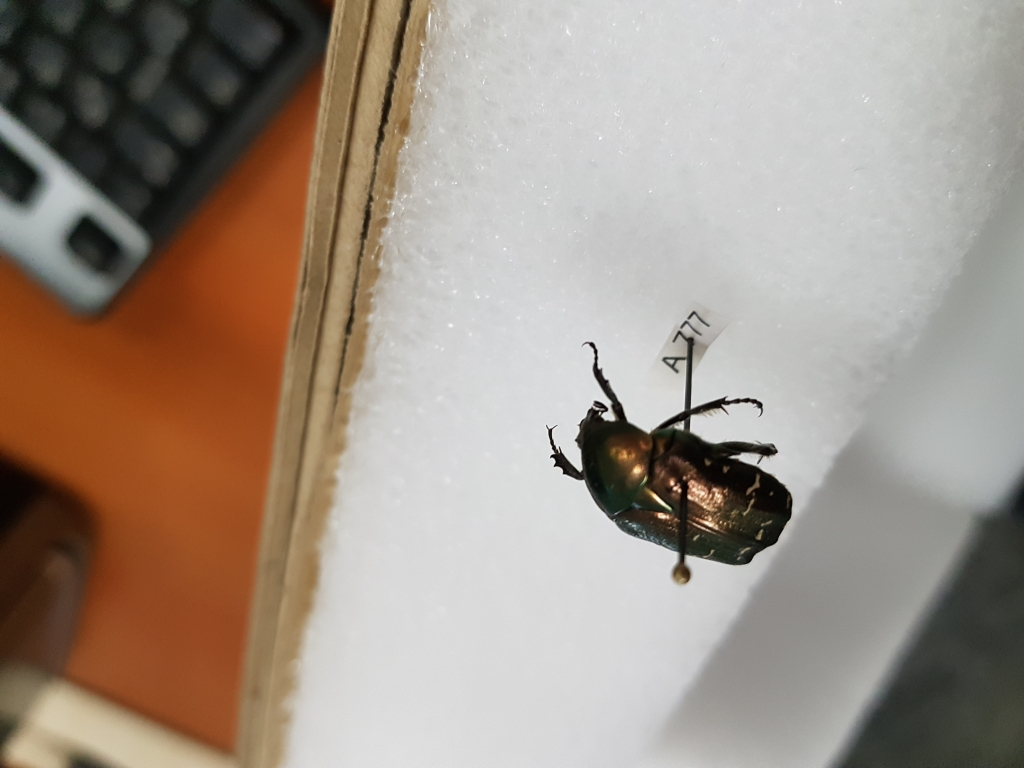Cetonia_aurata: (545, 328, 800, 563)
